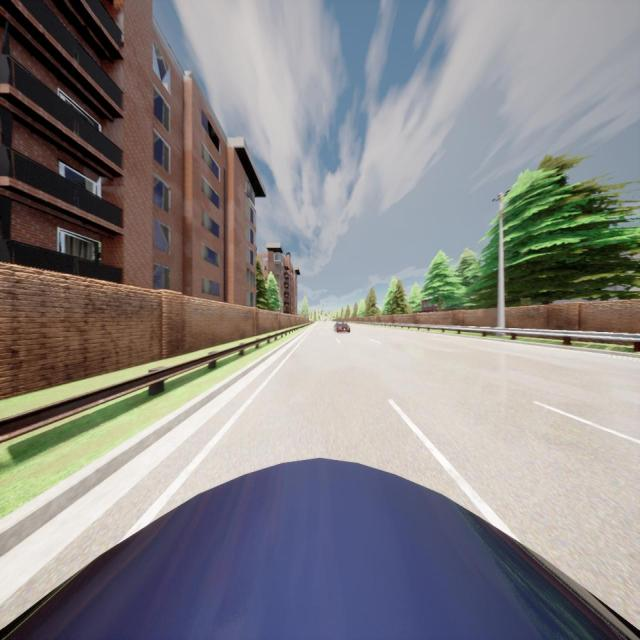Vehicle: (0, 456, 640, 640), (334, 320, 350, 333)
